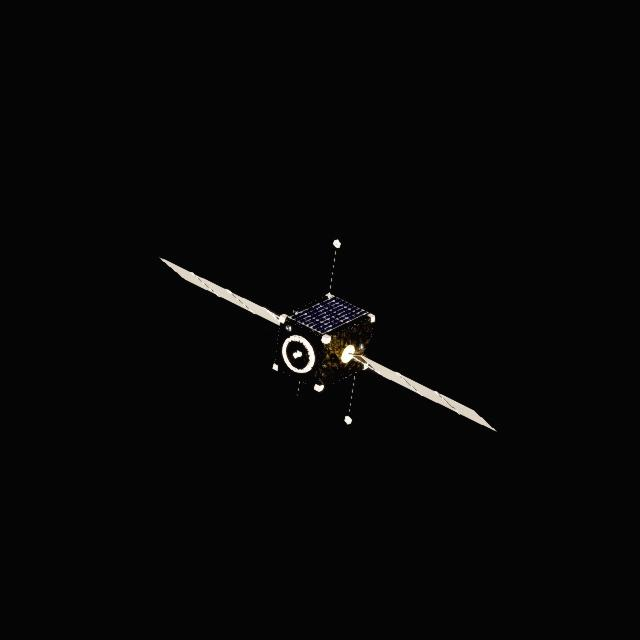satellite: (162, 241, 493, 431)
